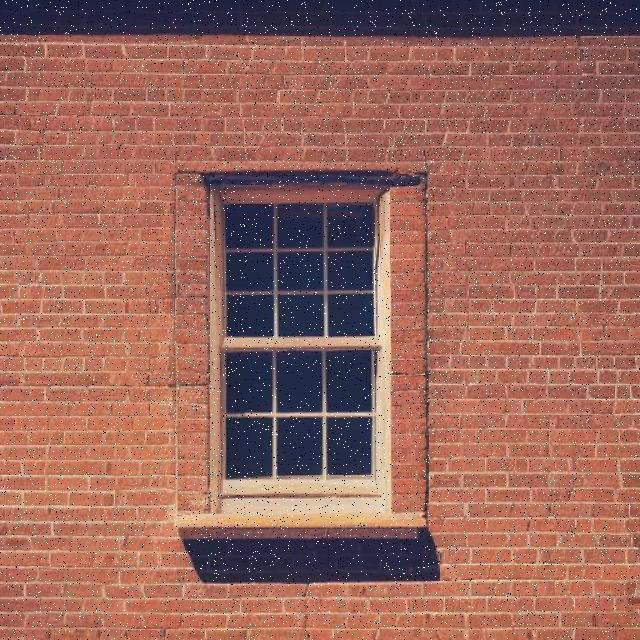window: (208, 168, 390, 510)
